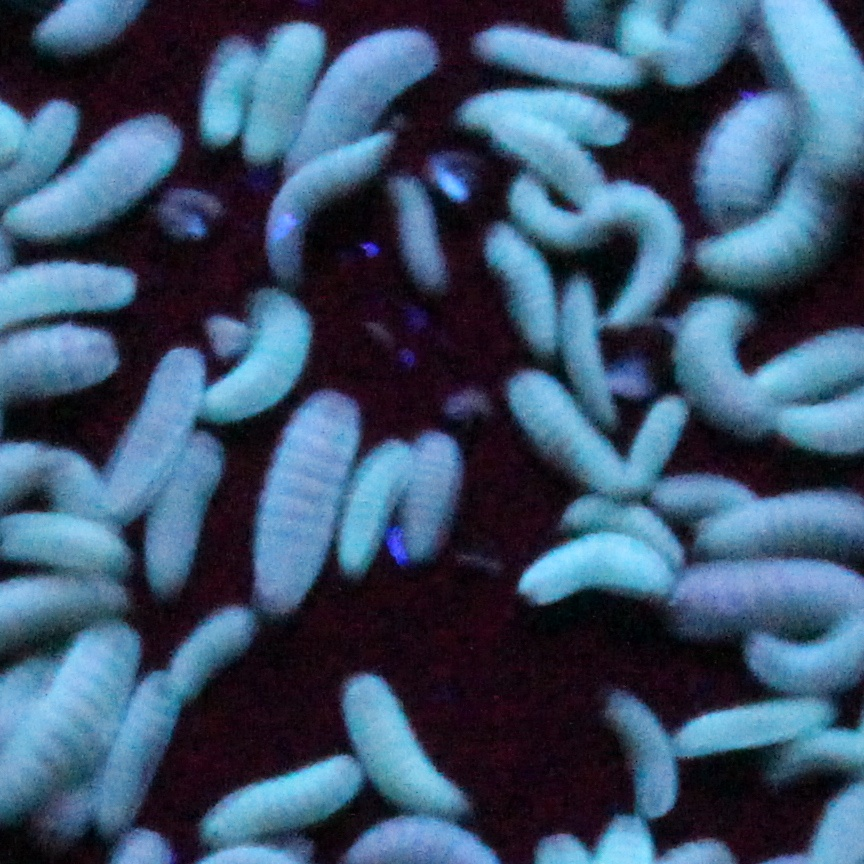larve: (2, 109, 196, 239), (259, 378, 362, 622), (5, 623, 134, 811), (334, 666, 482, 821), (95, 337, 207, 529), (293, 29, 439, 164), (660, 290, 782, 449), (506, 369, 644, 502), (260, 144, 386, 279), (200, 286, 314, 435), (92, 659, 185, 837), (683, 172, 828, 283), (136, 432, 232, 592), (511, 532, 682, 621), (465, 18, 651, 98), (664, 691, 842, 771), (594, 684, 688, 829), (206, 756, 364, 840), (475, 220, 566, 353), (693, 73, 779, 211), (157, 604, 277, 702), (594, 180, 677, 318), (466, 80, 628, 143), (399, 429, 468, 566), (385, 174, 458, 296), (491, 119, 601, 189), (197, 29, 257, 149), (510, 185, 594, 245)
